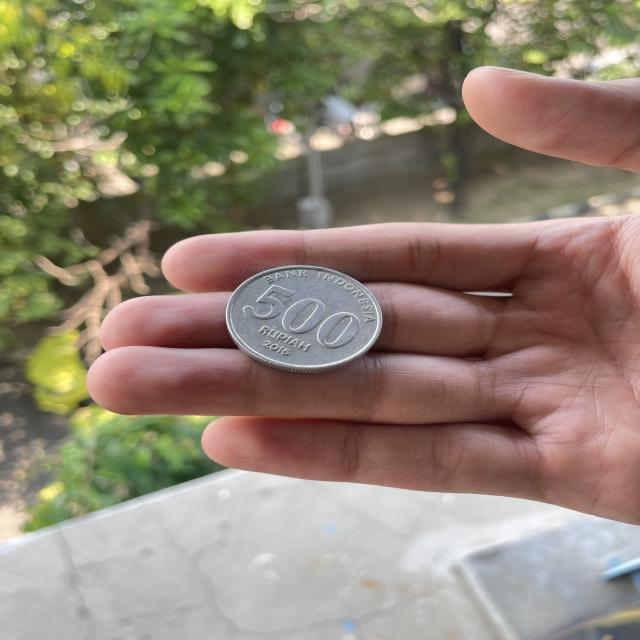500-silver: (222, 251, 384, 376)
